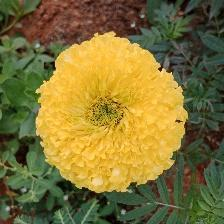marigold: (35, 30, 190, 197)
